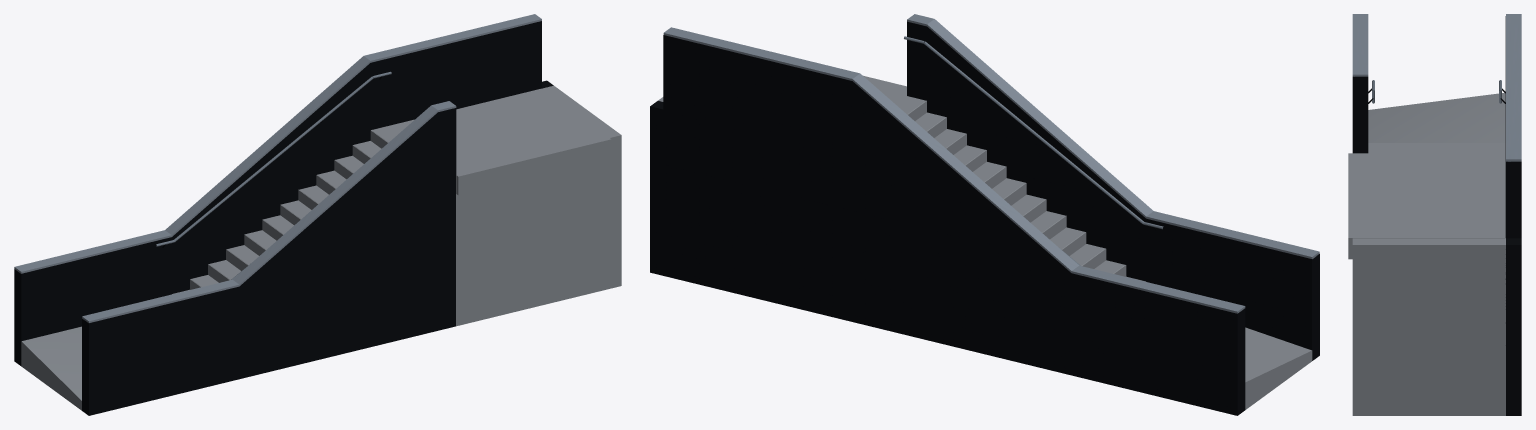
3 renders of one model, left to right at view 1: azimuth 30°, elevation 25°; view 2: azimuth 150°, elevation 25°; view 3: azimuth 270°, elevation 25°, orthographic. The views are drawn at different scales.
Parts seen in each view (by area): view 1: Cheek_Walls, Stair_Body, Cheek_Caps, Handrail; view 2: Cheek_Walls, Cheek_Caps, Stair_Body, Handrail; view 3: Stair_Body, Cheek_Walls, Cheek_Caps.
Part boxes in pixels (x1,y1,x2,y2): Cheek_Walls: [14, 21, 553, 415]; Stair_Body: [21, 85, 621, 410]; Cheek_Caps: [14, 14, 541, 322]; Handrail: [156, 71, 391, 279]; Cheek_Walls: [650, 21, 1319, 415]; Cheek_Caps: [663, 14, 1319, 313]; Stair_Body: [658, 75, 1312, 409]; Handrail: [904, 36, 1163, 265]; Stair_Body: [1348, 92, 1505, 415]; Cheek_Walls: [1352, 16, 1521, 415]; Cheek_Caps: [1352, 14, 1521, 161].
Size of what is drawn, in the model's own units: 8.85 by 3.5 by 2.2.
6 materials, 5 textured.
